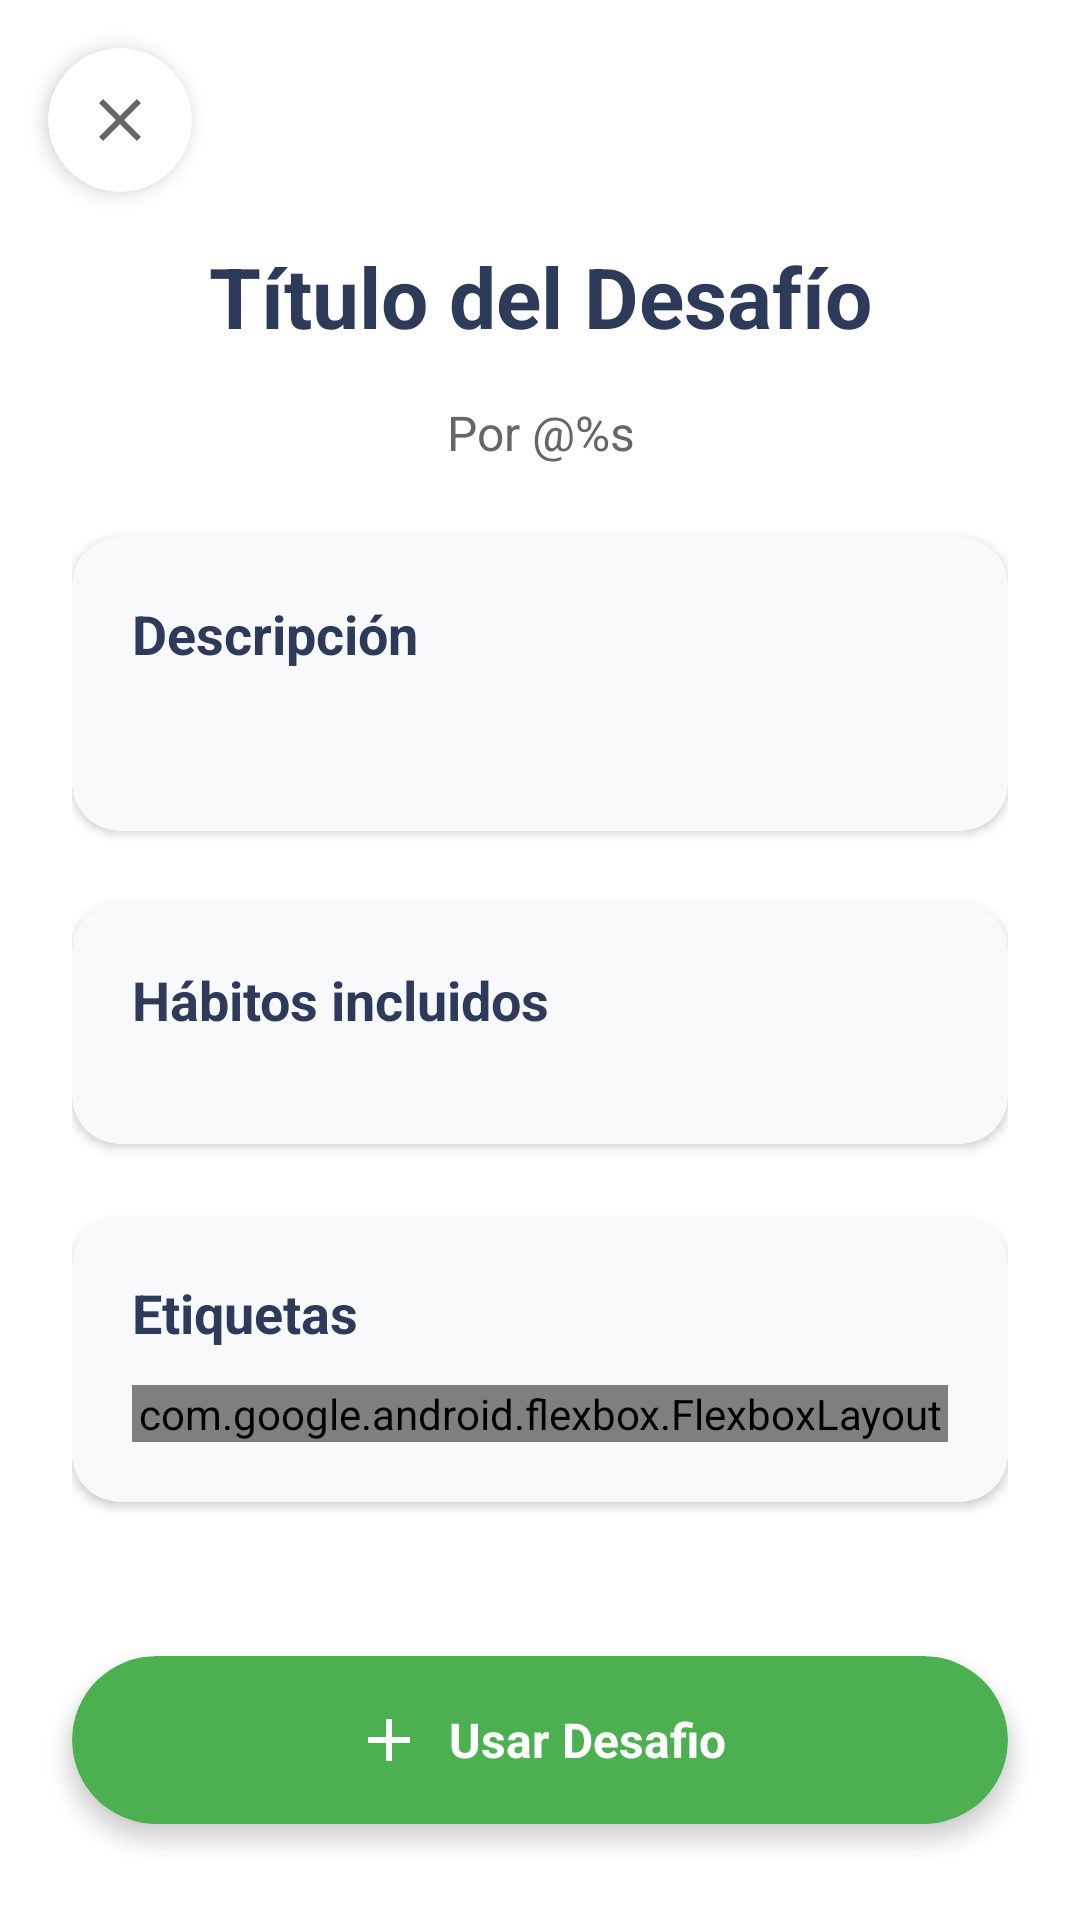

Named icons in this screenshot (1080px×1920px) and their bounding boxes, (x1, y1, x2, y2):
add: (368, 1719, 410, 1761)
close: (99, 99, 141, 141)
